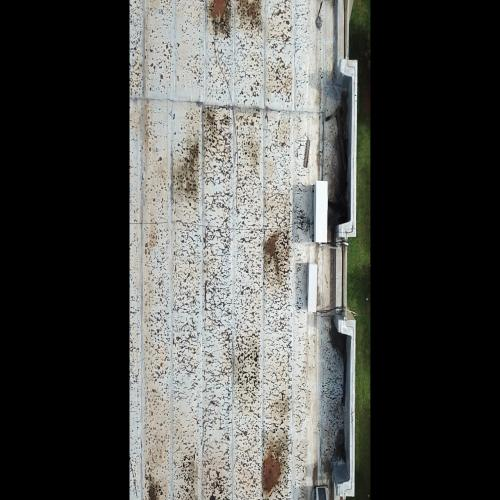conde: (312, 180, 331, 247), (307, 262, 320, 316), (314, 483, 332, 500)
